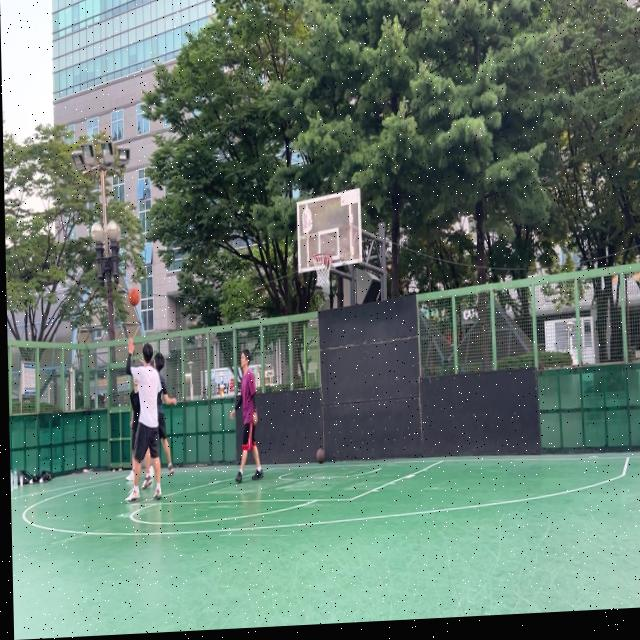basketball: (129, 286, 140, 306), (316, 449, 326, 465)
hoop: (312, 253, 334, 288)
